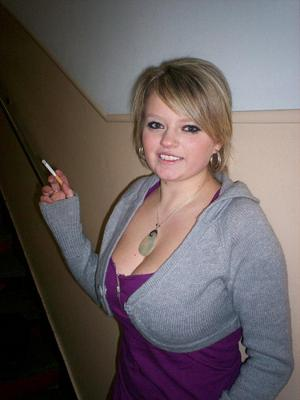person: (38, 56, 295, 400)
